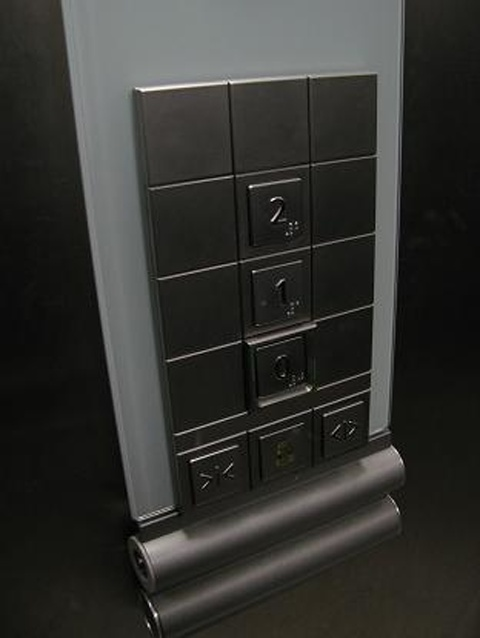0: (251, 333, 308, 401)
1: (247, 257, 307, 330)
2: (245, 175, 307, 250)
blur: (255, 418, 307, 484)
close: (187, 440, 244, 509)
open: (318, 397, 366, 463)
